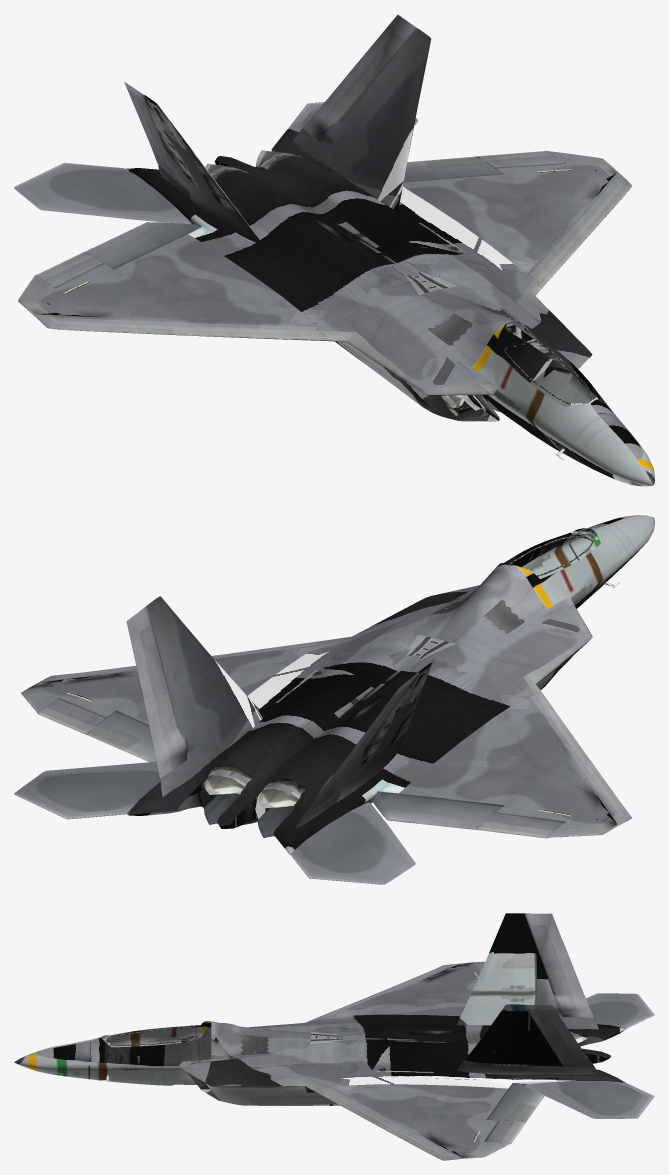
The model's file is f22_game.glb.
3 renders of one model, top to bottom at view 1: azimuth 30°, elevation 25°; view 2: azimuth 150°, elevation 25°; view 3: azimuth 270°, elevation 25°, orthographic. The views are drawn at different scales.
Parts seen in each view (by area): view 1: Airframe; view 2: Airframe; view 3: Airframe.
Boxes of the visible parts, x1,y1,x2,y2 form: Airframe: (14,14,654,486); Airframe: (14,515,654,884); Airframe: (14,913,654,1160).
Bounding box in the file's own units: 6.5 × 2.01 × 9.
Materials: 1 (1 with a texture image).
